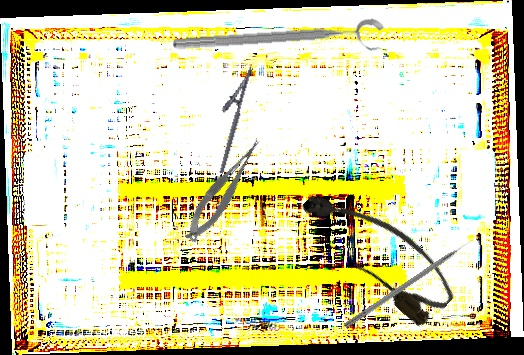Cannula: (293, 169, 465, 332)
Fixation Ring: (172, 17, 386, 67)
Hook Surgical: (343, 236, 477, 331)
Micro Scissor: (174, 135, 275, 247)
Needle Holder: (204, 61, 255, 175)
